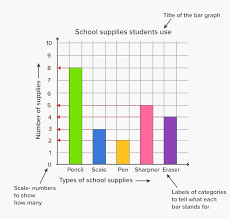Xaxis: (35, 156, 200, 174)
Yaxis: (31, 28, 65, 174)
bar: (69, 67, 82, 164), (140, 105, 153, 165), (164, 117, 177, 164), (93, 129, 106, 165), (116, 140, 130, 164)
